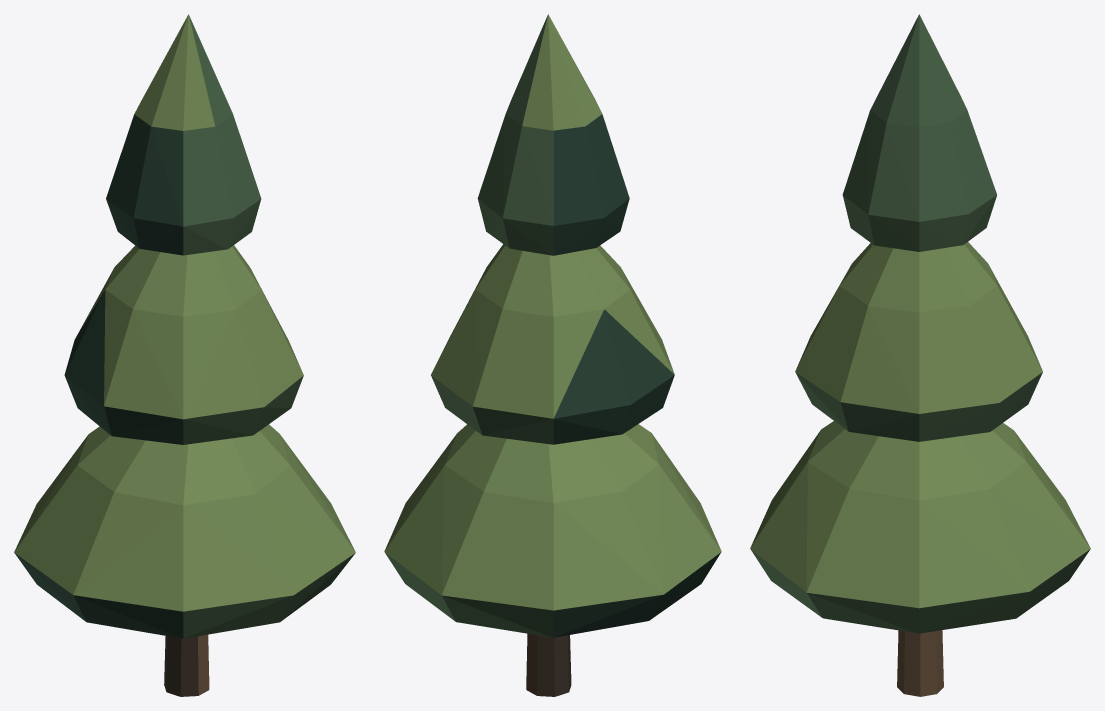
Rendered from TW_TREE_TIERED_SLIM_A_LOD0.glb.
3 renders of one model, left to right at view 1: azimuth 30°, elevation 25°; view 2: azimuth 150°, elevation 25°; view 3: azimuth 270°, elevation 25°, orthographic.
Visible parts, largest first — view 1: TW_TREE_TIERED_SLIM_A_LOD0; view 2: TW_TREE_TIERED_SLIM_A_LOD0; view 3: TW_TREE_TIERED_SLIM_A_LOD0.
Part boxes in pixels (x1,y1,x2,y2): TW_TREE_TIERED_SLIM_A_LOD0: (14, 14, 355, 696); TW_TREE_TIERED_SLIM_A_LOD0: (384, 14, 721, 696); TW_TREE_TIERED_SLIM_A_LOD0: (750, 14, 1090, 696).
Bounding box in the file's own units: 1.7 × 3.8 × 1.74.
Materials: 1 (1 with a texture image).
